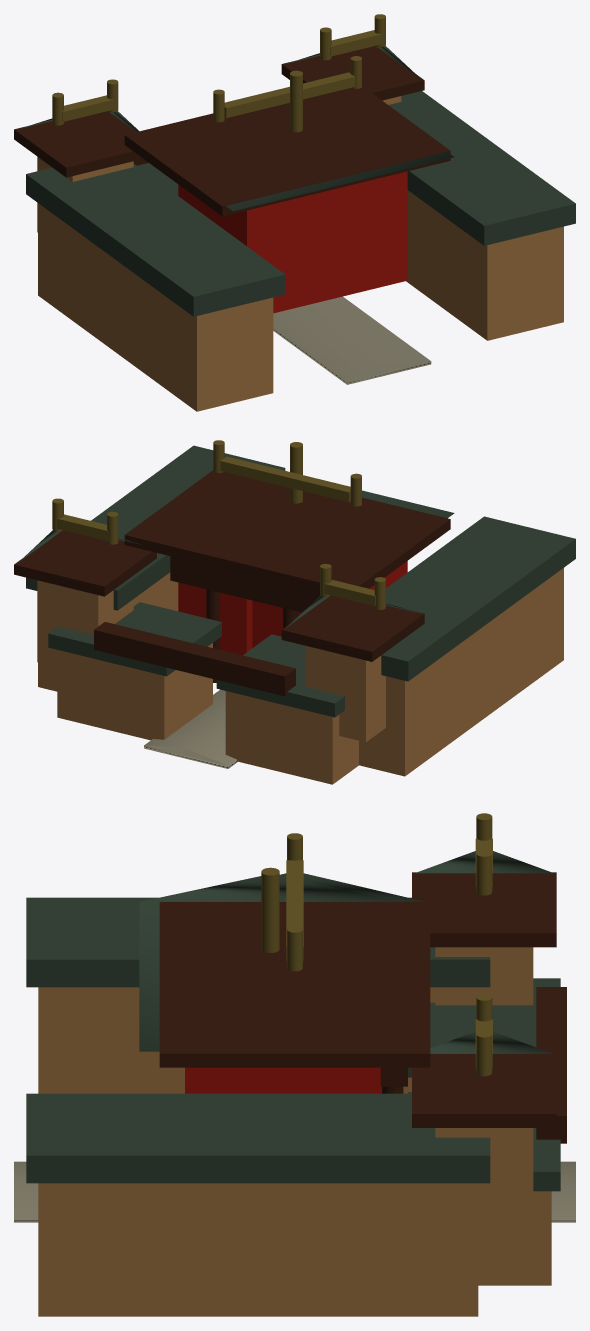
Rendered from Guangyangmen.fbx.
The picture shows the model from 3 angles, top to bottom: view 1: azimuth 30°, elevation 25°; view 2: azimuth 150°, elevation 25°; view 3: azimuth 270°, elevation 25°; orthographic projection. The views are drawn at different scales.
Visible parts, largest first — view 1: east_wall, gatehouse_eave_belt, east_coping, gate_mass, west_wall, west_coping, road, barbican_tower_east_eave_belt, barbican_tower_west_eave_belt, gatehouse_ridge, gate_roof_2, barbican_tower_west_ridge (+3 smaller); view 2: gatehouse_eave_belt, east_wall, east_coping, barbican_west, barbican_east, barbican_crossbeam, barbican_tower_east_eave_belt, barbican_tower_west_eave_belt, west_coping, barbican_tower_east, barbican_west_roof, barbican_tower_west (+14 smaller); view 3: west_wall, gatehouse_eave_belt, west_coping, east_wall, east_coping, barbican_tower_west_eave_belt, barbican_tower_east_eave_belt, barbican_tower_west, gate_roof_2, gate_mass, barbican_west, barbican_tower_east (+13 smaller).
Part boxes in pixels (<box>): east_wall: <box>38,203,273,411</box>; gatehouse_eave_belt: <box>124,86,450,216</box>; east_coping: <box>26,164,285,316</box>; gate_mass: <box>185,171,407,313</box>; west_wall: <box>406,190,563,340</box>; west_coping: <box>388,91,575,245</box>; road: <box>273,296,431,384</box>; barbican_tower_east_eave_belt: <box>14,111,142,177</box>; barbican_tower_west_eave_belt: <box>281,46,424,100</box>; gatehouse_ridge: <box>224,72,354,117</box>; gate_roof_2: <box>226,152,454,211</box>; barbican_tower_west_ridge: <box>330,30,381,56</box>; gatehouse_eave_belt: <box>124,470,450,592</box>; east_wall: <box>359,568,563,776</box>; east_coping: <box>381,516,575,681</box>; barbican_west: <box>57,643,212,740</box>; barbican_east: <box>225,691,358,784</box>; barbican_crossbeam: <box>94,622,295,696</box>; barbican_tower_east_eave_belt: <box>281,595,424,661</box>; barbican_tower_west_eave_belt: <box>14,530,156,596</box>; west_coping: <box>26,445,285,610</box>; barbican_tower_east: <box>305,645,385,742</box>; barbican_west_roof: <box>48,602,221,676</box>; barbican_tower_west: <box>37,580,133,666</box>; west_wall: <box>38,1183,478,1316</box>; gatehouse_eave_belt: <box>159,899,430,1067</box>; west_coping: <box>26,1093,490,1183</box>; east_wall: <box>38,987,435,1093</box>; east_coping: <box>26,897,490,987</box>; barbican_tower_west_eave_belt: <box>412,1053,556,1127</box>; barbican_tower_east_eave_belt: <box>412,872,556,947</box>; barbican_tower_west: <box>435,1128,533,1242</box>; gate_roof_2: <box>139,876,400,1051</box>; gate_mass: <box>185,1067,355,1093</box>; barbican_west: <box>478,1191,551,1285</box>; barbican_tower_east: <box>435,947,533,1005</box>.
Bounding box in the file's own units: 100 × 60 × 92.
